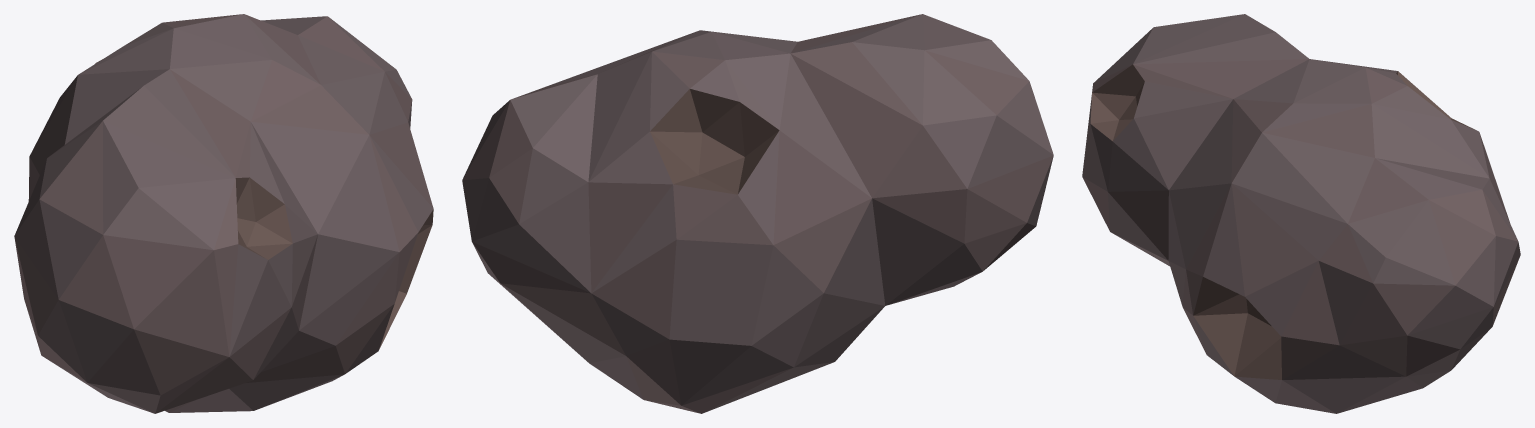
Rendered from asteroid_4.fbx.
3 views of the same model, side by side, from view 1: azimuth 30°, elevation 25°; view 2: azimuth 150°, elevation 25°; view 3: azimuth 270°, elevation 25° (orthographic). The views are drawn at different scales.
Visible parts, largest first — view 1: asteroid_4; view 2: asteroid_4; view 3: asteroid_4.
Part boxes in pixels (<box>): asteroid_4: <box>14,14,433,413</box>; asteroid_4: <box>462,14,1053,413</box>; asteroid_4: <box>1082,14,1520,413</box>.
Size of the model in its own units: 389 by 285 by 364.
